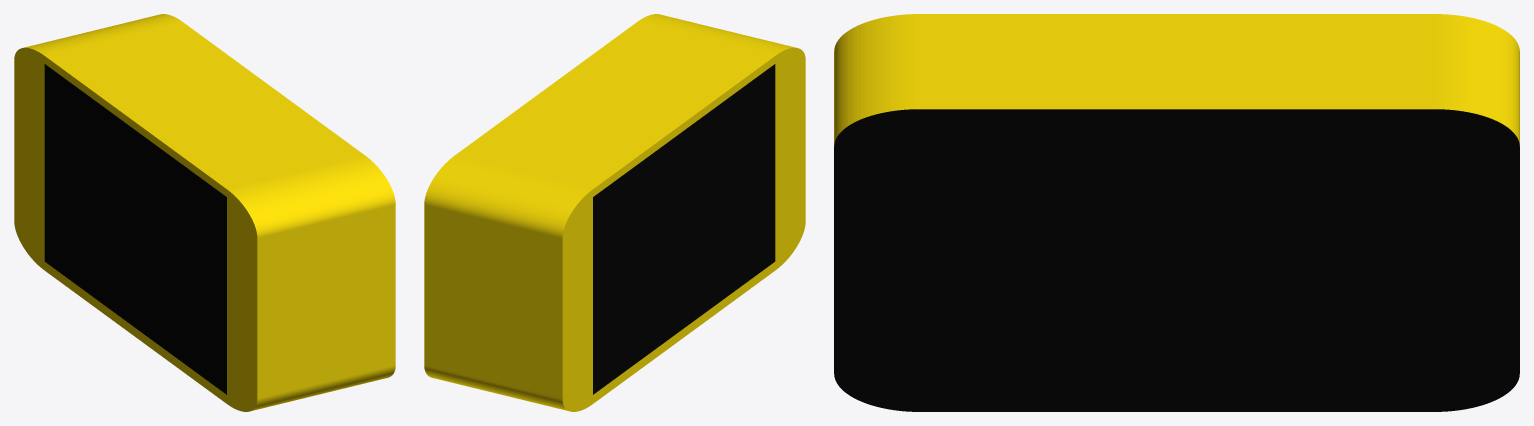
The model's file is 無題va.fbx.
3 renders of one model, left to right at view 1: azimuth 30°, elevation 25°; view 2: azimuth 150°, elevation 25°; view 3: azimuth 270°, elevation 25°, orthographic. The views are drawn at different scales.
Visible parts, largest first — view 1: Cube; view 2: Cube; view 3: Cube.
Boxes of the visible parts, box(x1,y1,x2,y2) form: Cube: box(14, 14, 395, 411); Cube: box(424, 14, 805, 411); Cube: box(834, 14, 1519, 411).
Bounding box in the file's own units: 200 × 297 × 609.
